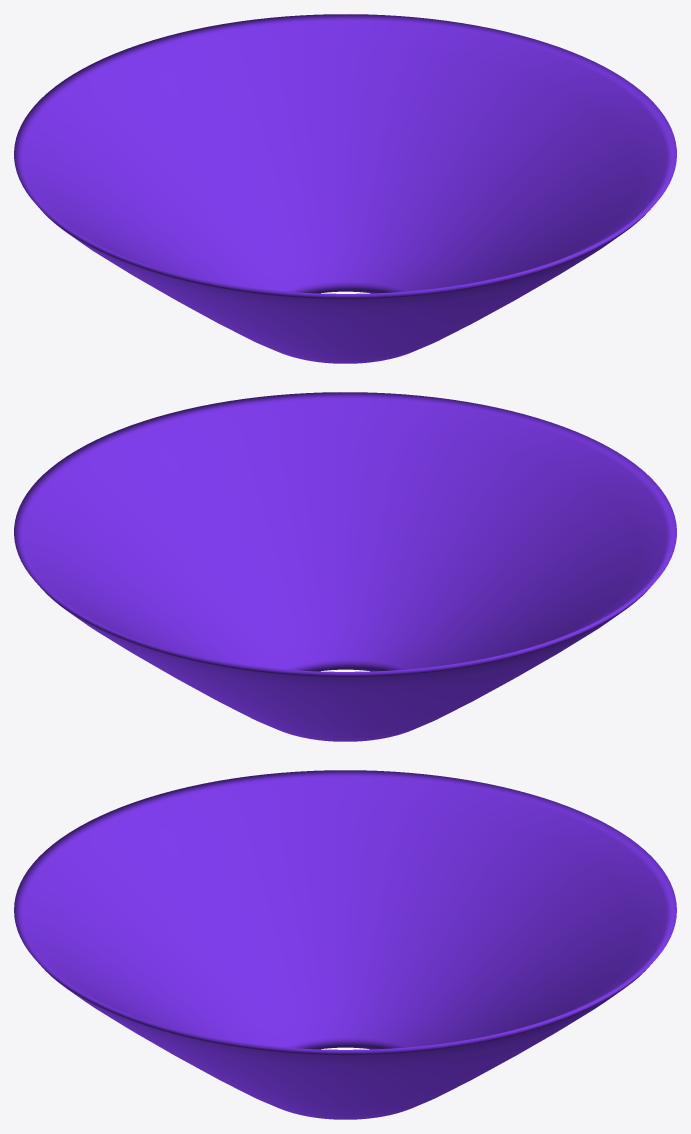
File: bowl.fbx
3 views of the same model, one above another, from view 1: azimuth 30°, elevation 25°; view 2: azimuth 150°, elevation 25°; view 3: azimuth 270°, elevation 25° (orthographic).
Parts seen in each view (by area): view 1: Cylinder; view 2: Cylinder; view 3: Cylinder.
Part boxes in pixels (x1=…): Cylinder: x1=14, y1=14, x2=676, y2=363; Cylinder: x1=14, y1=392, x2=676, y2=741; Cylinder: x1=14, y1=770, x2=676, y2=1119.
Size of the model in its own units: 2217 by 639 by 2217.
